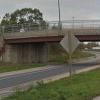Bridge: (3, 19, 95, 54)
